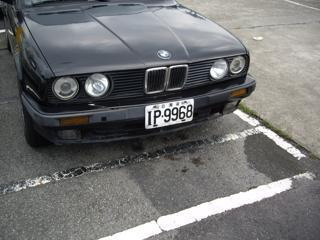plate: (143, 101, 195, 128)
